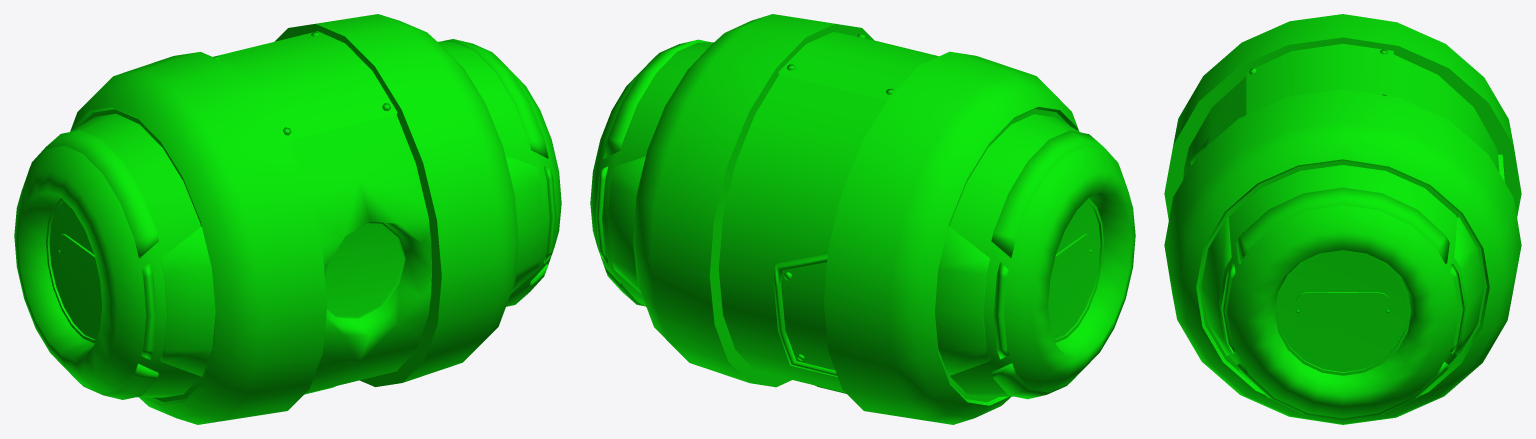
File: Dron Llanta FINAL.fbx
The picture shows the model from 3 angles, left to right: view 1: azimuth 30°, elevation 25°; view 2: azimuth 150°, elevation 25°; view 3: azimuth 270°, elevation 25°; orthographic projection. The views are drawn at different scales.
Visible parts, largest first — view 1: Body, Llantas; view 2: Body, Llantas; view 3: Body, Llantas.
Part boxes in pixels (x1=…): Body: x1=14, y1=31, x2=561, y2=399; Llantas: x1=70, y1=14, x2=518, y2=424; Body: x1=590, y1=32, x2=1135, y2=399; Llantas: x1=633, y1=14, x2=1079, y2=424; Body: x1=1183, y1=43, x2=1505, y2=420; Llantas: x1=1164, y1=14, x2=1521, y2=424.
Bounding box in the file's own units: 0.6491 × 0.4602 × 0.477.
